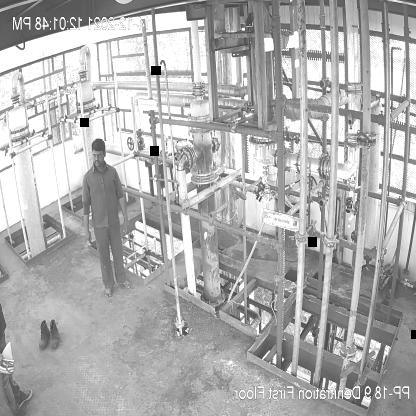no_shoes: (118, 279, 134, 289), (104, 287, 115, 300)
shoes: (46, 318, 61, 351), (38, 320, 50, 349)
